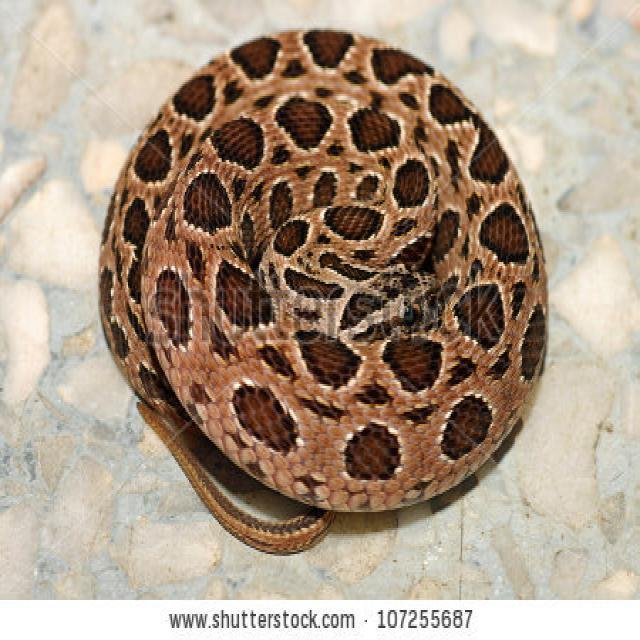Snake: (96, 24, 550, 550)
